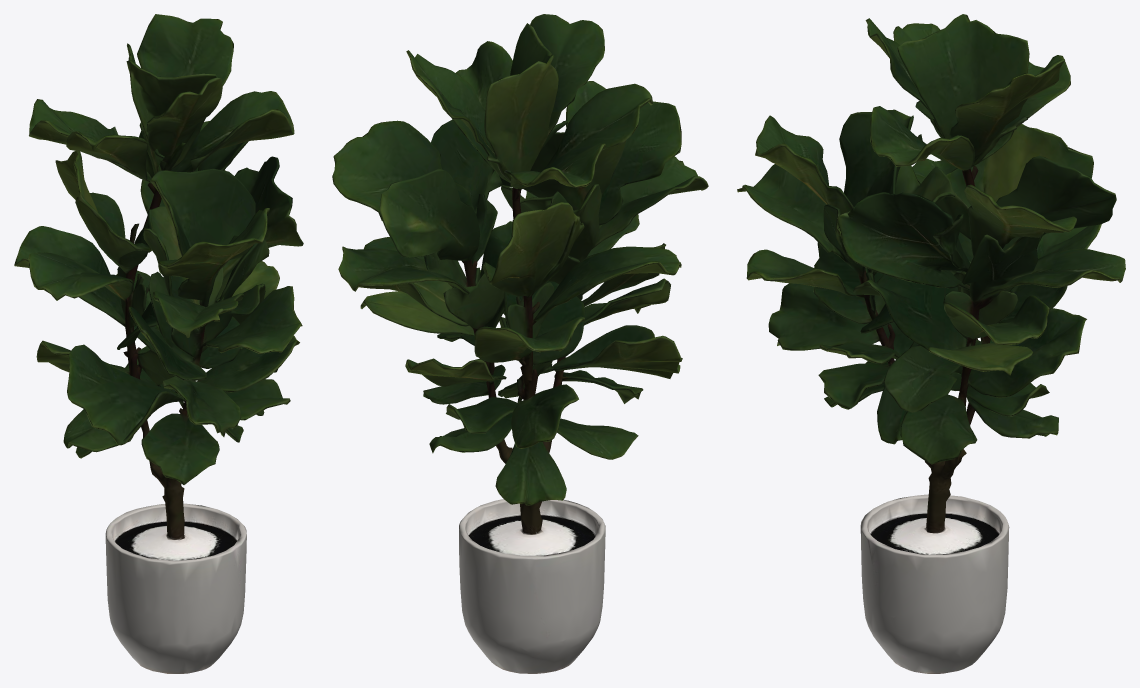
Rendered from plant.glb.
The picture shows the model from 3 angles, left to right: view 1: azimuth 30°, elevation 25°; view 2: azimuth 150°, elevation 25°; view 3: azimuth 270°, elevation 25°; orthographic projection. The views are drawn at different scales.
Parts seen in each view (by area): view 1: tripo_node_1dea3646-dc4d-428a-a4c9-56b49009484c; view 2: tripo_node_1dea3646-dc4d-428a-a4c9-56b49009484c; view 3: tripo_node_1dea3646-dc4d-428a-a4c9-56b49009484c.
Part boxes in pixels (x1,y1,x2,y2): tripo_node_1dea3646-dc4d-428a-a4c9-56b49009484c: (14,14,303,673); tripo_node_1dea3646-dc4d-428a-a4c9-56b49009484c: (332,14,708,673); tripo_node_1dea3646-dc4d-428a-a4c9-56b49009484c: (737,14,1125,673).
Bounding box in the file's own units: 0.4882 × 1 × 0.5623.
Materials: 1 (1 with a texture image).
